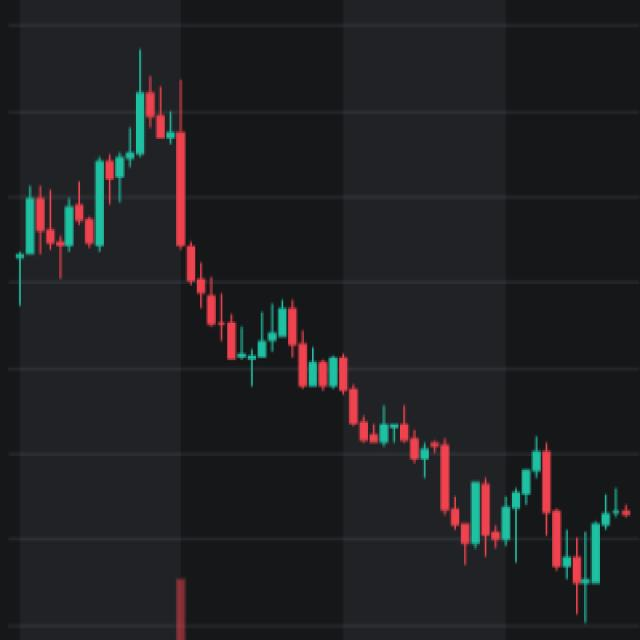Channel-down: (183, 267, 639, 637)
Support-breakout: (85, 82, 452, 544)
